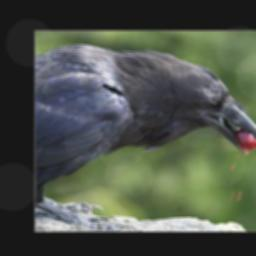Crow: (35, 42, 256, 230)
